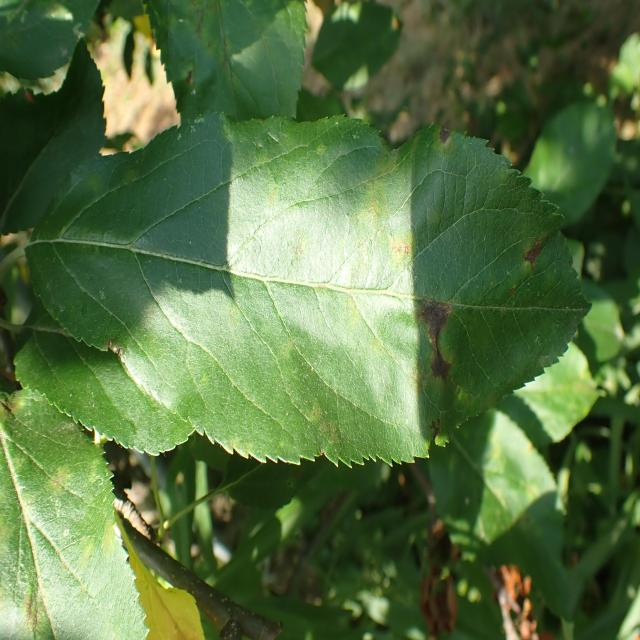scab: (104, 143, 566, 454)
